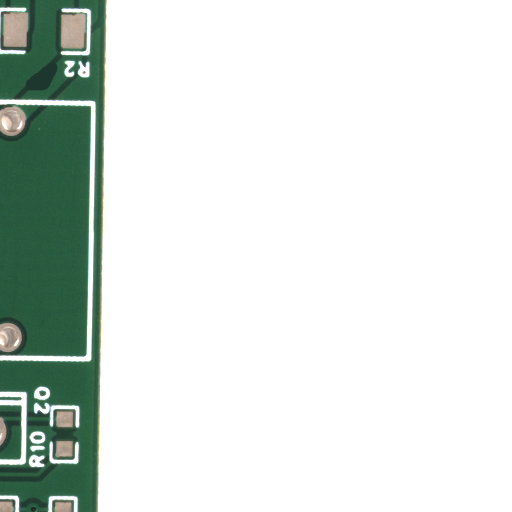Mouse_bite: (42, 77, 73, 106)
